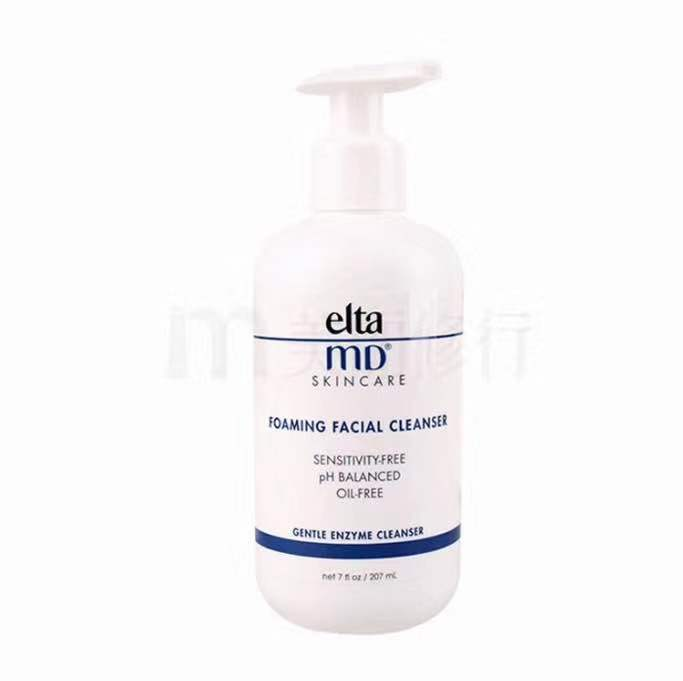cosmetic: (260, 58, 465, 624)
